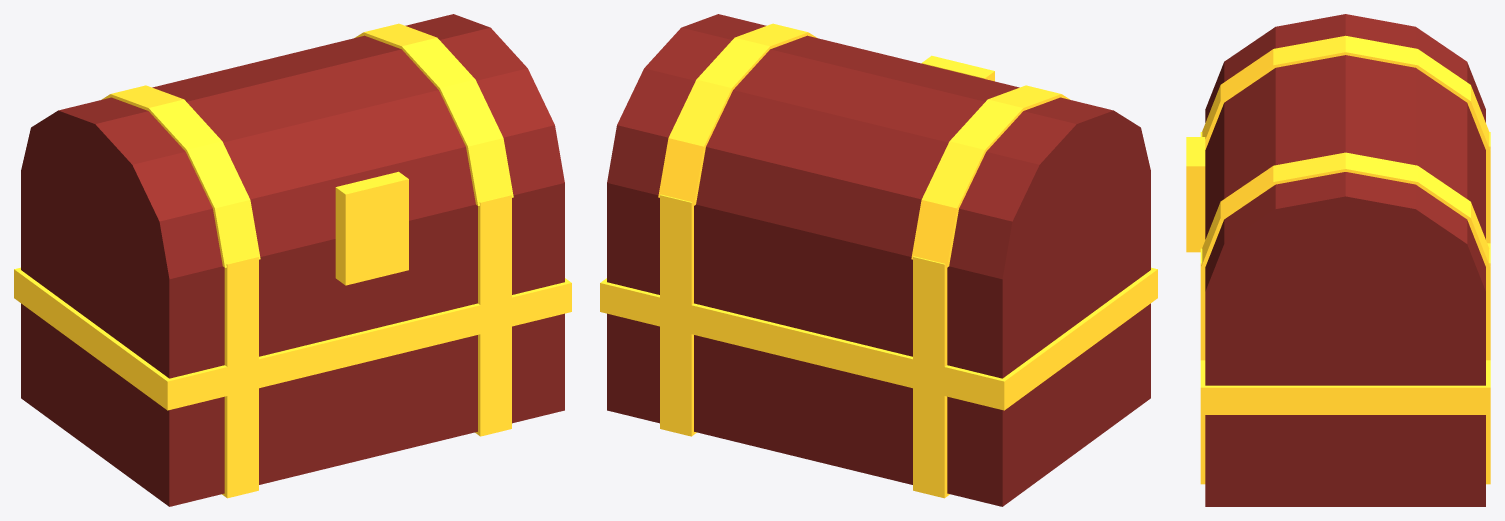
The model's file is ChestLegend.fbx.
3 views of the same model, side by side, from view 1: azimuth 30°, elevation 25°; view 2: azimuth 150°, elevation 25°; view 3: azimuth 270°, elevation 25° (orthographic). The views are drawn at different scales.
Visible parts, largest first — view 1: ChestBase, ChestLid; view 2: ChestBase, ChestLid; view 3: ChestLid, ChestBase.
Boxes of the visible parts, x1,y1,x2,y2 form: ChestBase: (14, 171, 571, 506); ChestLid: (21, 14, 564, 285); ChestBase: (600, 171, 1157, 506); ChestLid: (607, 14, 1150, 279); ChestLid: (1186, 14, 1490, 291); ChestBase: (1200, 132, 1490, 506).
Size of the model in its own units: 1.38 by 1.09 by 0.9525.
